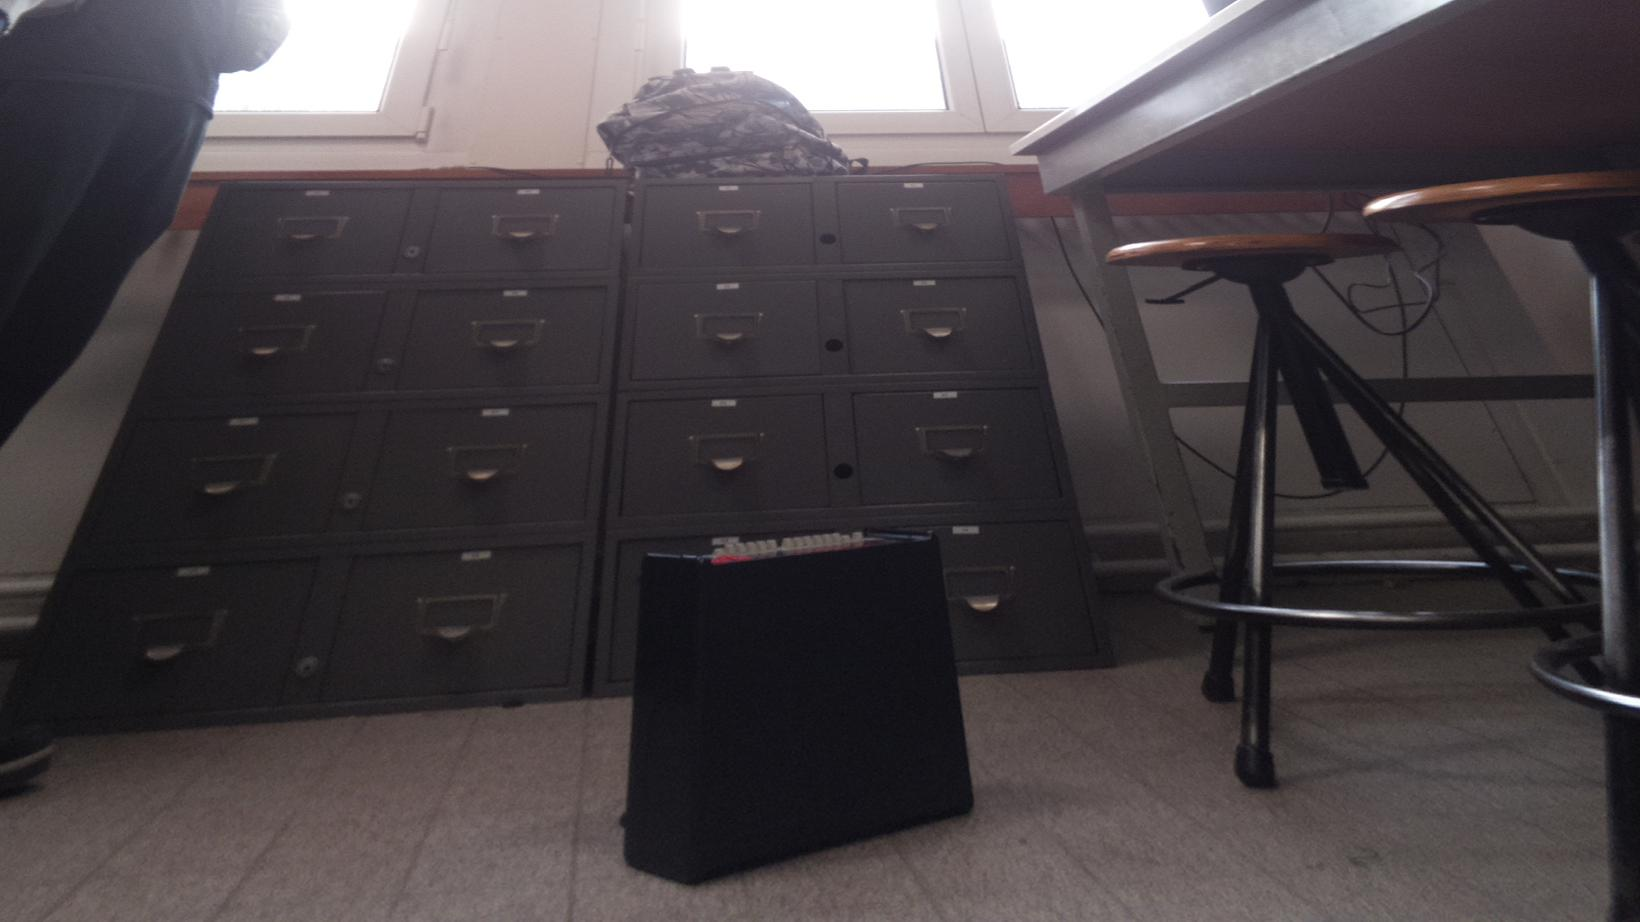big: (592, 55, 866, 177)
medium: (620, 520, 988, 896)
